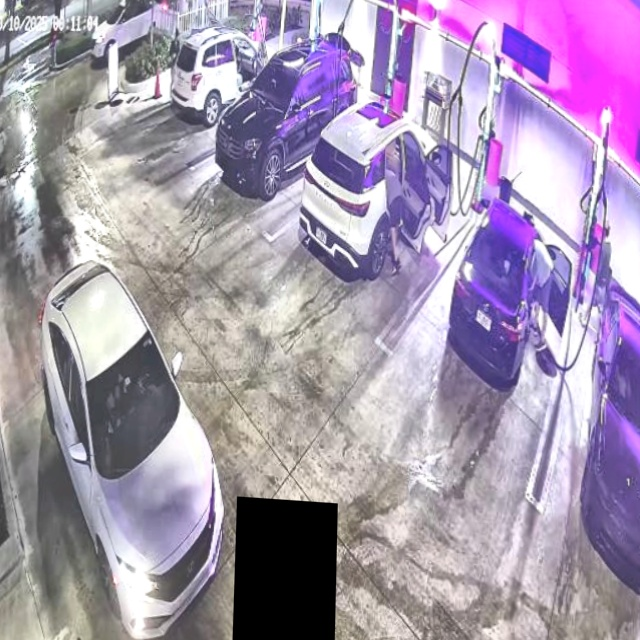Car: (22, 255, 234, 640), (303, 98, 453, 272), (448, 201, 566, 387), (219, 36, 356, 196)
